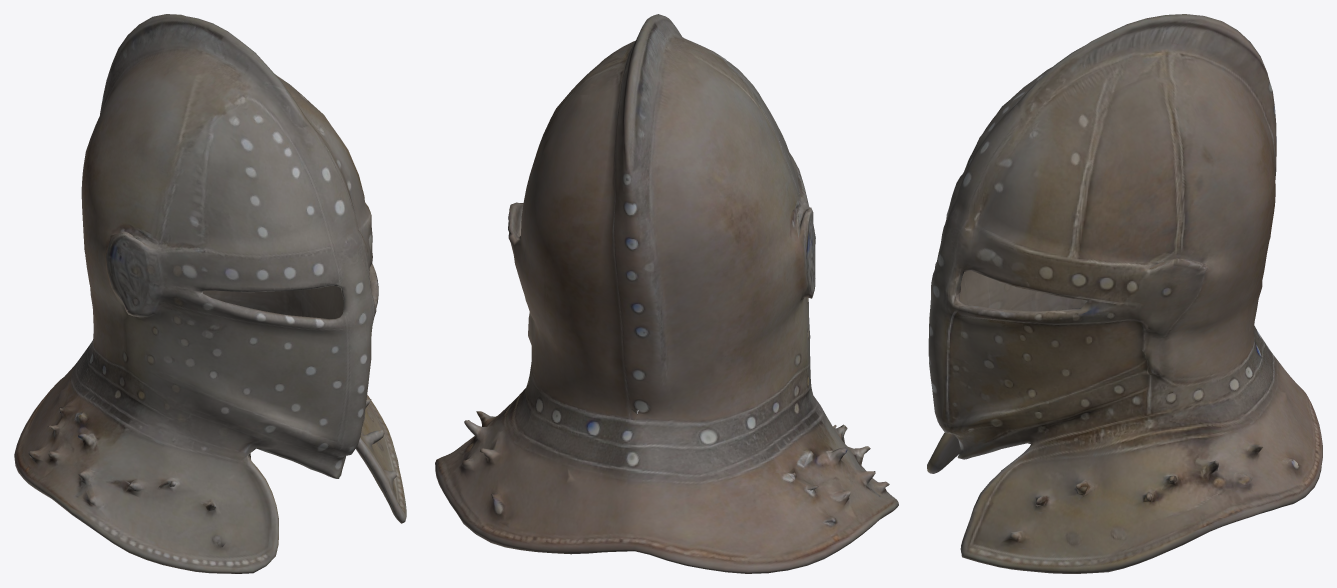
File: Studded Leather Helmet.glb
The picture shows the model from 3 angles, left to right: view 1: azimuth 30°, elevation 25°; view 2: azimuth 150°, elevation 25°; view 3: azimuth 270°, elevation 25°; orthographic projection. The views are drawn at different scales.
Visible parts, largest first — view 1: file1; view 2: file1; view 3: file1.
Part boxes in pixels (left/top/right/bottom): file1: left=14, top=14, right=406, bottom=573; file1: left=435, top=14, right=898, bottom=573; file1: left=927, top=14, right=1322, bottom=573.
Size of the model in its own units: 1.59 by 1.99 by 1.47.
Materials: 1 (1 with a texture image).
